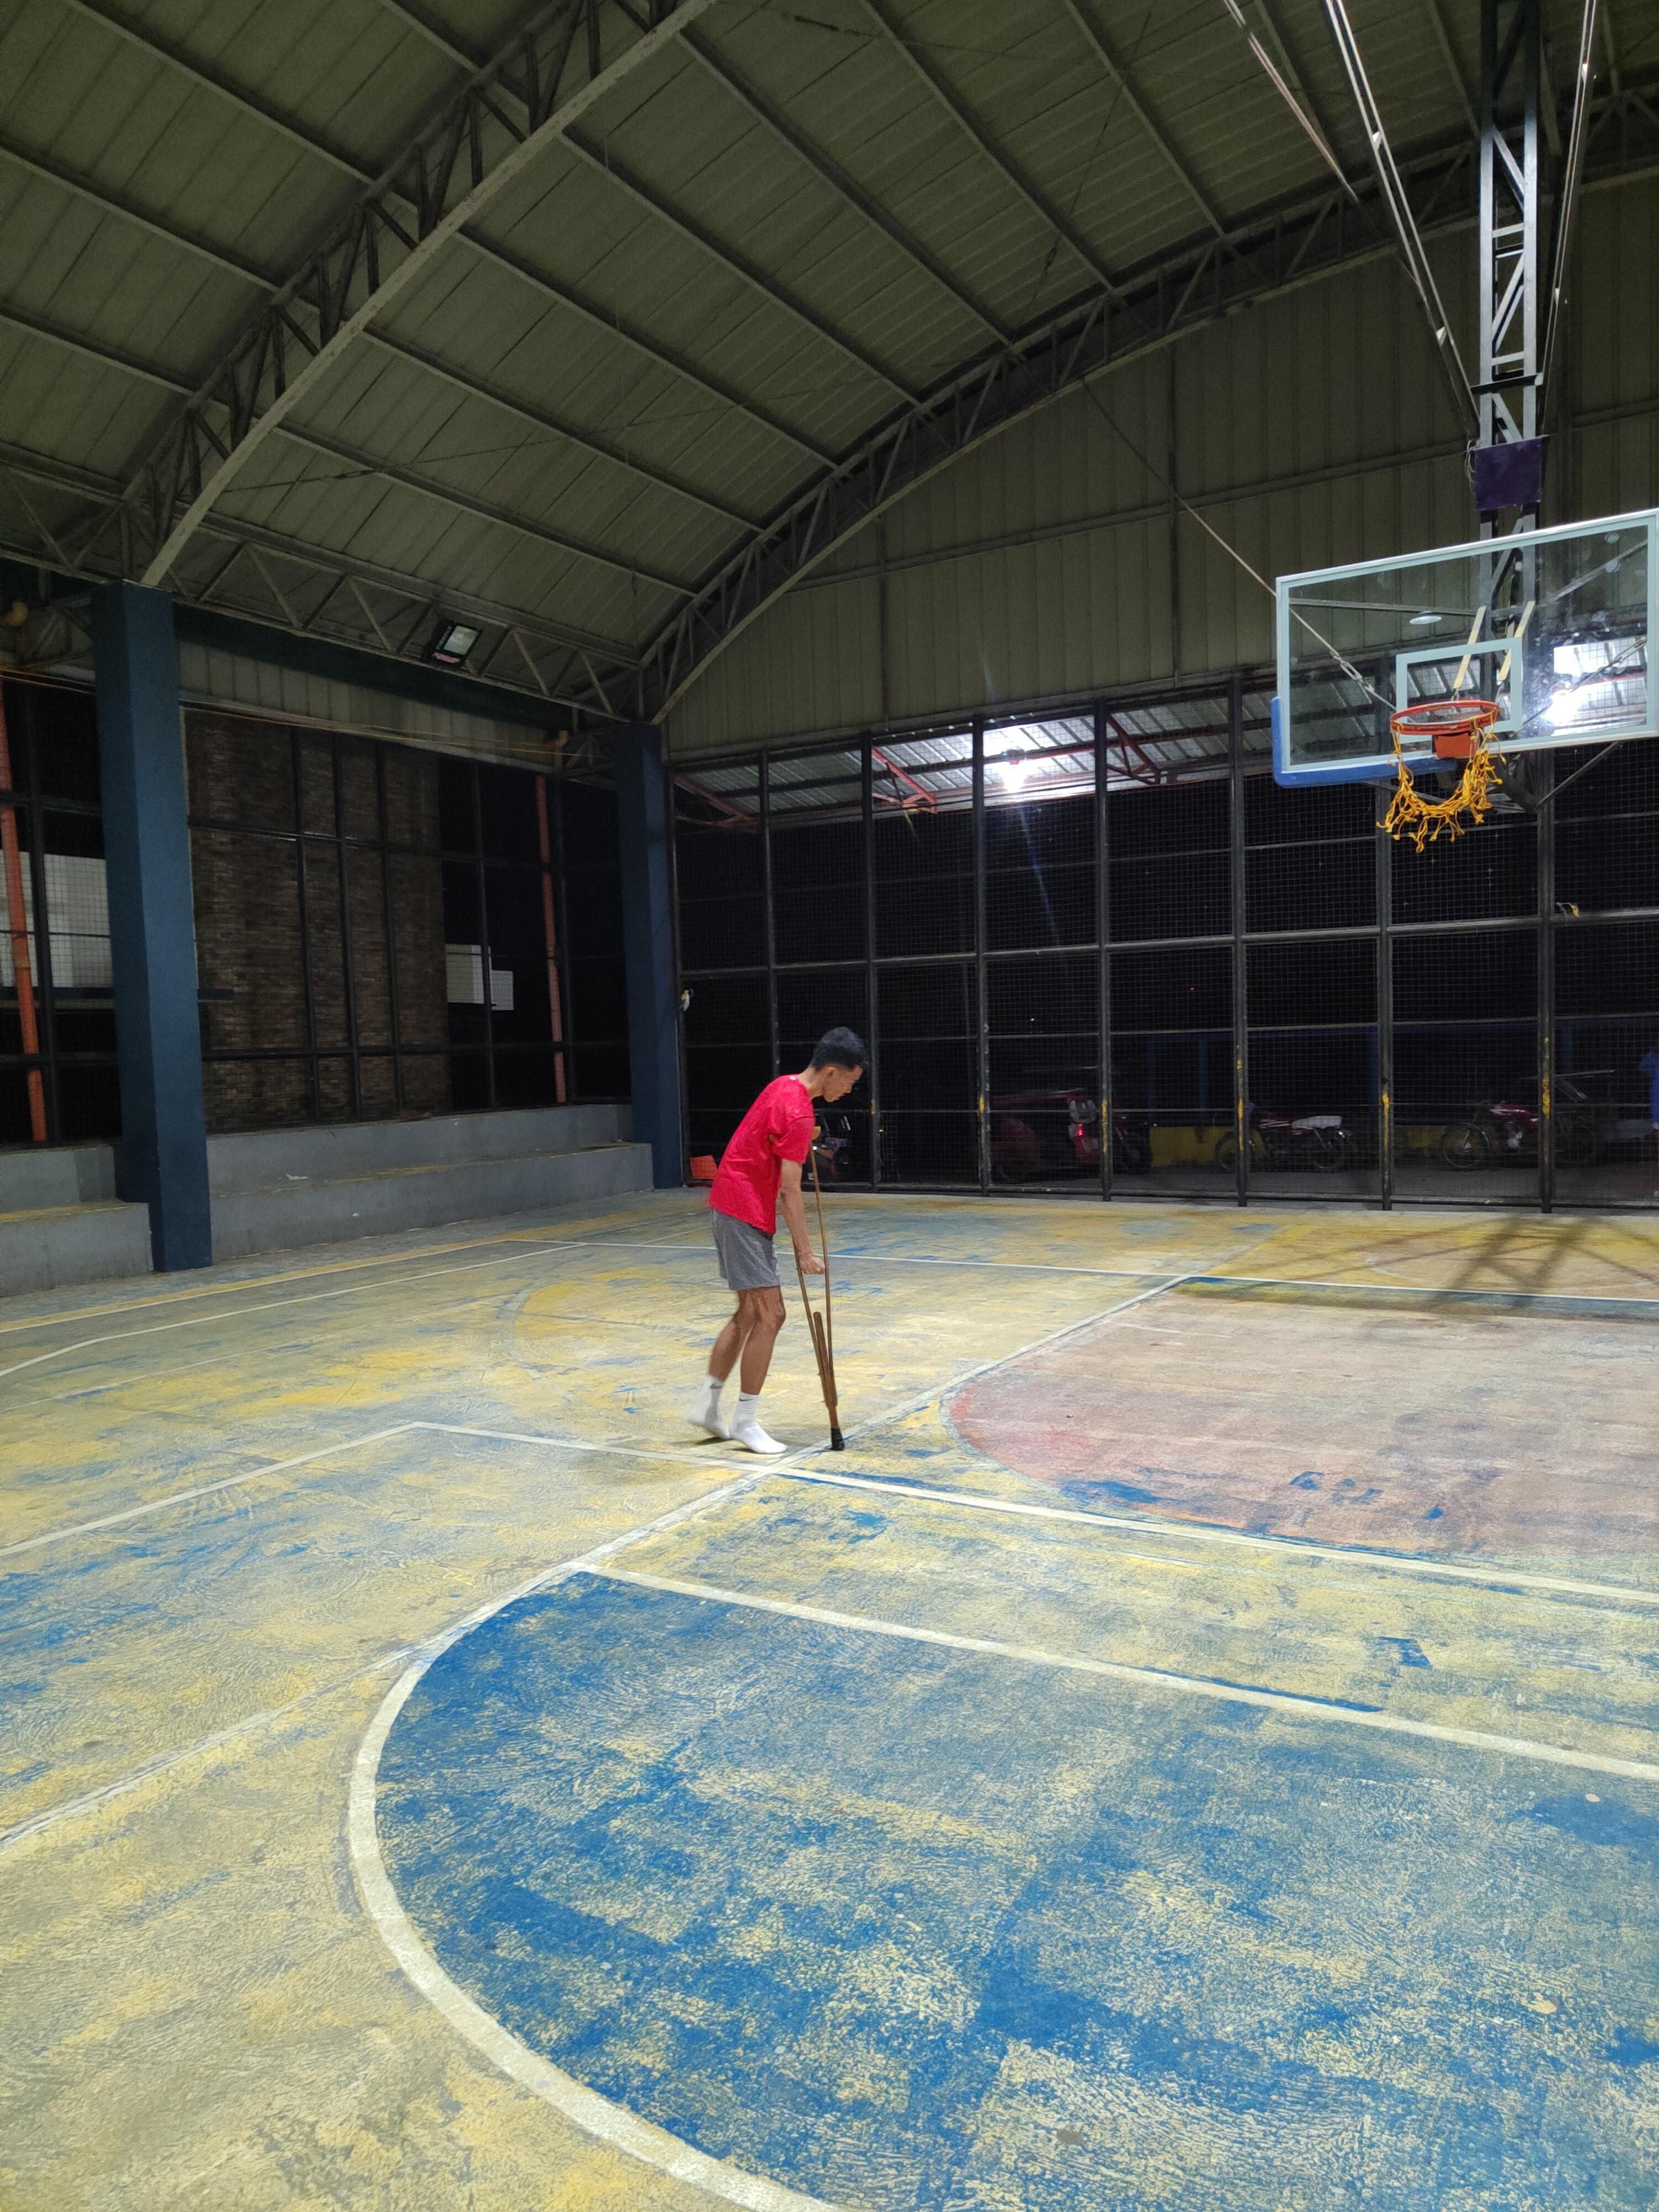crutches: (676, 1014, 890, 1465)
